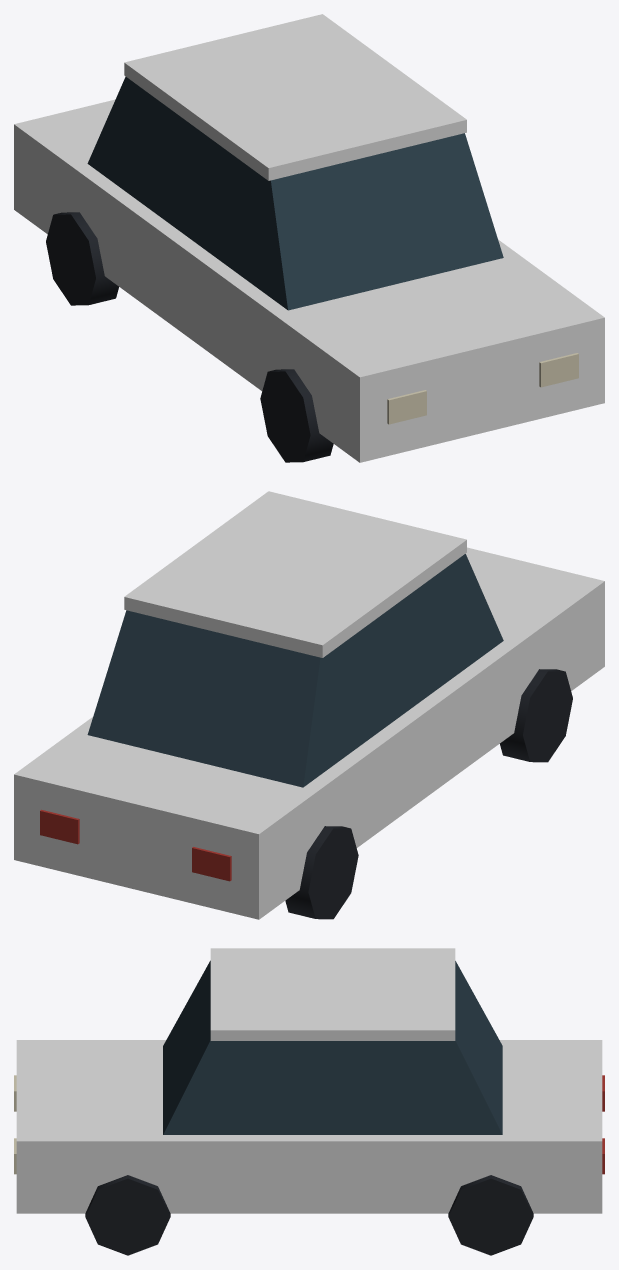
Rendered from veh_car_5.760c994af0d4.glb.
The picture shows the model from 3 angles, top to bottom: view 1: azimuth 30°, elevation 25°; view 2: azimuth 150°, elevation 25°; view 3: azimuth 270°, elevation 25°; orthographic projection. The views are drawn at different scales.
Visible parts, largest first — view 1: LOD0; view 2: LOD0; view 3: LOD0.
Part boxes in pixels (<box>): LOD0: <box>14,14,604,462</box>; LOD0: <box>14,491,604,919</box>; LOD0: <box>14,948,604,1255</box>.
Size of what is drawn, in the model's own units: 1.93 by 1.76 by 4.44.
